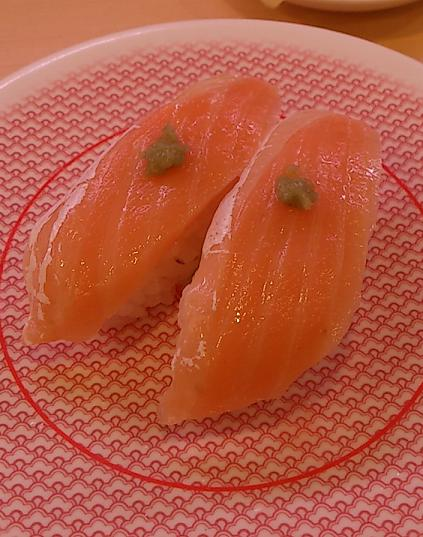salmon: (23, 74, 391, 427)
